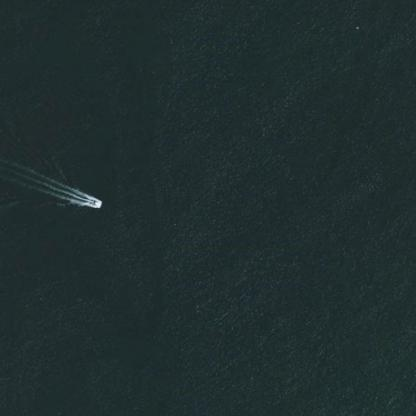ship: (79, 192, 110, 213)
